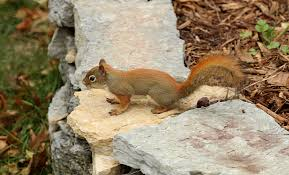squirrel: (80, 57, 241, 114)
